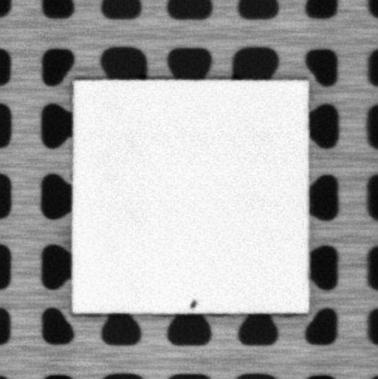DIE_INK: (188, 297, 198, 310)
